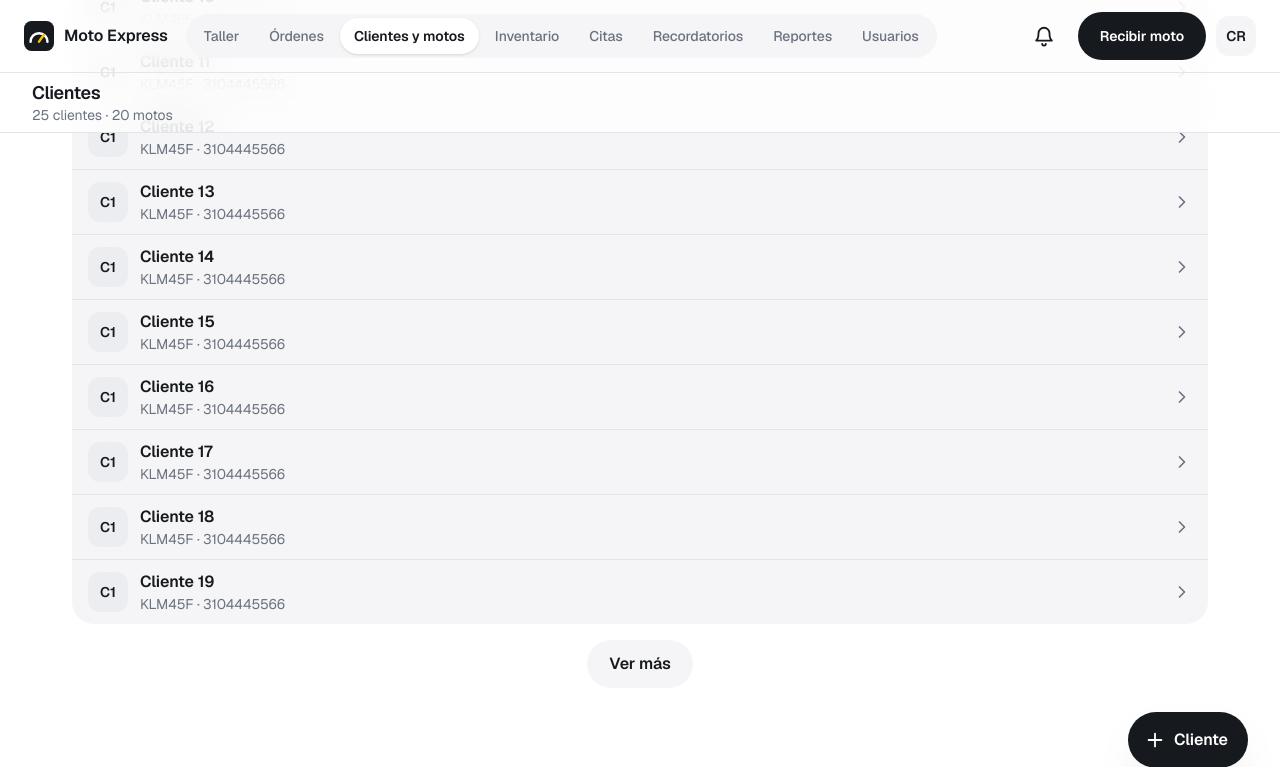
HU-25 · Buscar y ver clientes › con más de 20 clientes permite ver más
(page scrolled)
Click the button "Ver más".
click(640, 664)  # box [587,640,693,688]
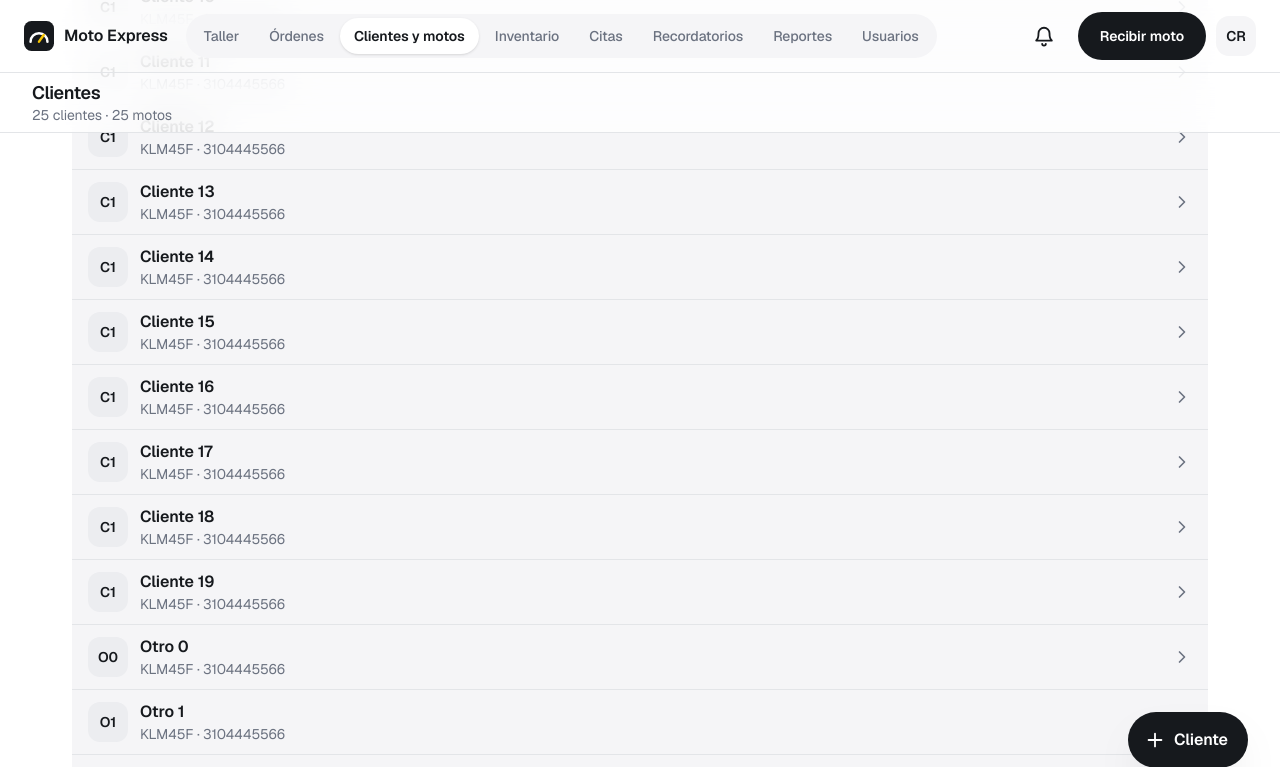
Now the button "Ver más" is gone
